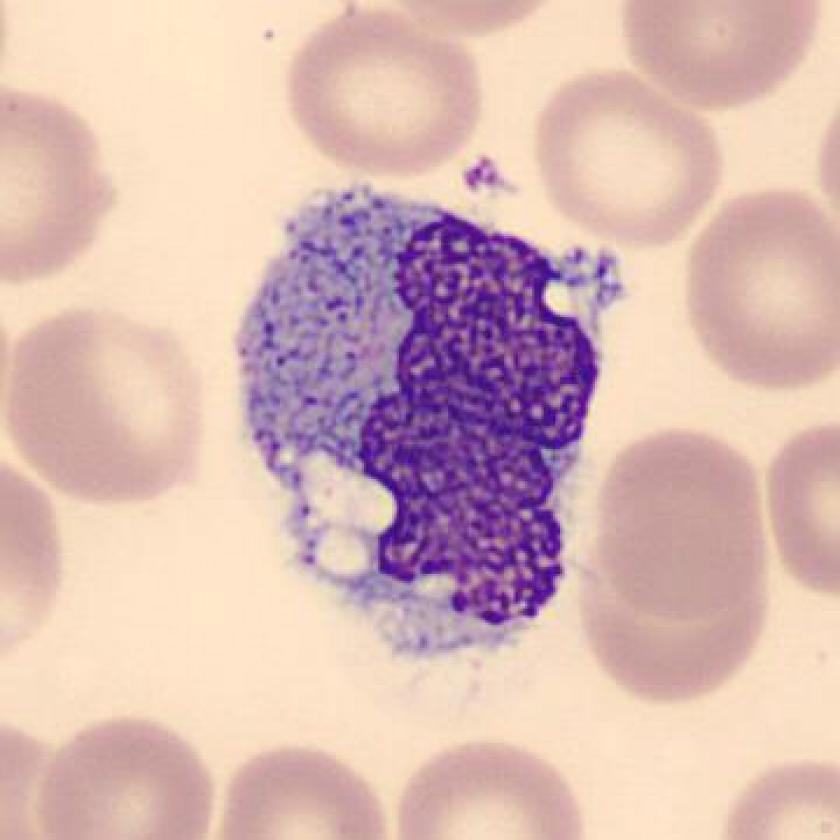monocyte: (216, 163, 643, 702)
